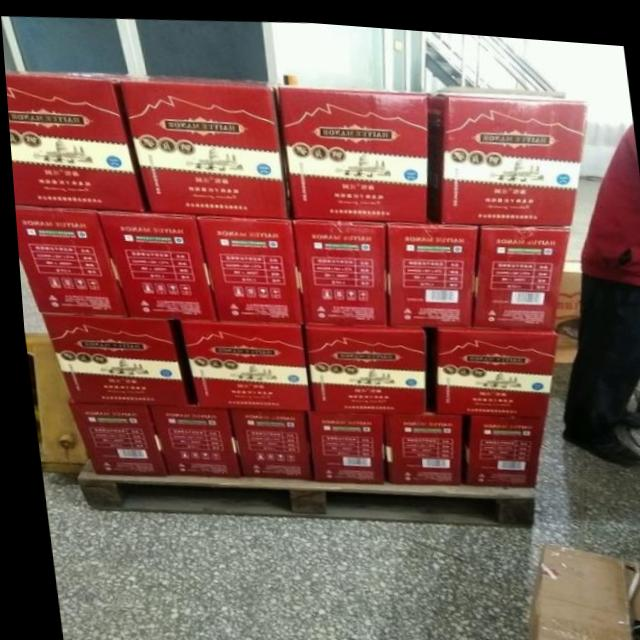box: (119, 73, 289, 216), (426, 84, 585, 219), (277, 82, 430, 217), (4, 69, 144, 211), (40, 315, 186, 404), (97, 210, 214, 316), (12, 204, 123, 314), (426, 323, 553, 416), (194, 212, 294, 321), (181, 320, 306, 406), (300, 322, 424, 408), (465, 221, 567, 323), (382, 217, 479, 321), (291, 214, 381, 319), (66, 406, 161, 472), (144, 406, 236, 474), (454, 411, 539, 477), (221, 406, 303, 474), (302, 407, 378, 476), (379, 409, 453, 477)
